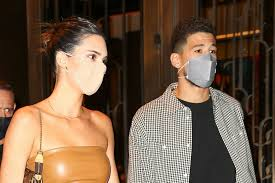mask: (72, 60, 106, 95), (187, 53, 217, 87)
